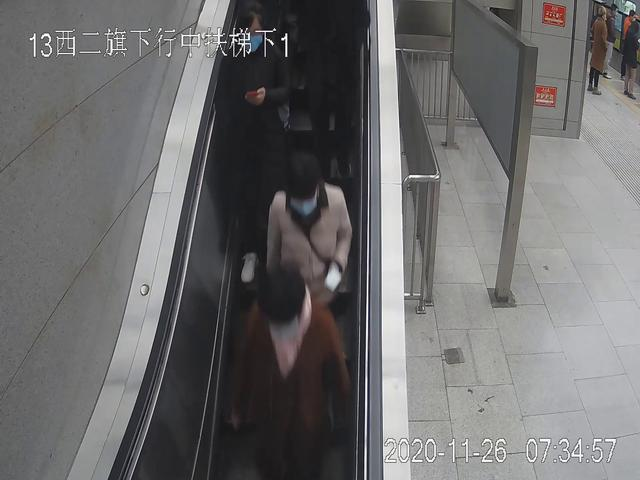person: (230, 270, 351, 480), (267, 156, 352, 425), (220, 12, 294, 282), (586, 4, 609, 97), (621, 19, 640, 98)
